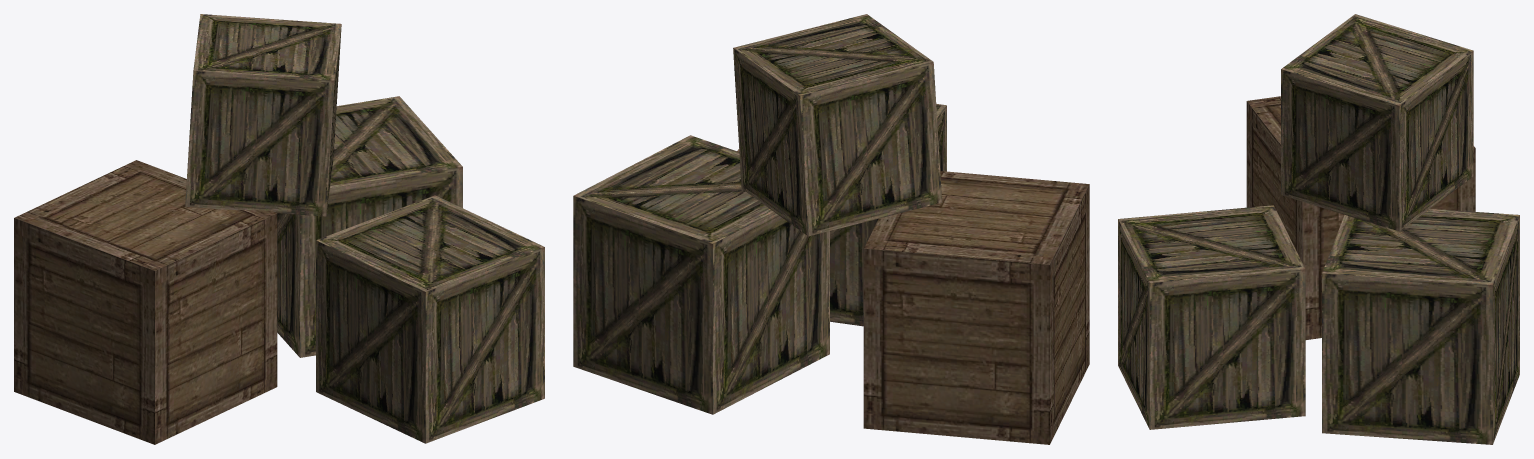
Rendered from muxiang_yc_24.fbx.
3 renders of one model, left to right at view 1: azimuth 30°, elevation 25°; view 2: azimuth 150°, elevation 25°; view 3: azimuth 270°, elevation 25°, orthographic. The views are drawn at different scales.
Parts seen in each view (by area): view 1: muxiang_yc_24; view 2: muxiang_yc_24; view 3: muxiang_yc_24.
Boxes of the visible parts, box(x1,y1,x2,y2) form: muxiang_yc_24: box(14, 14, 544, 444); muxiang_yc_24: box(573, 14, 1089, 444); muxiang_yc_24: box(1118, 14, 1519, 444).
Size of what is drawn, in the model's own units: 192 by 134 by 163.
